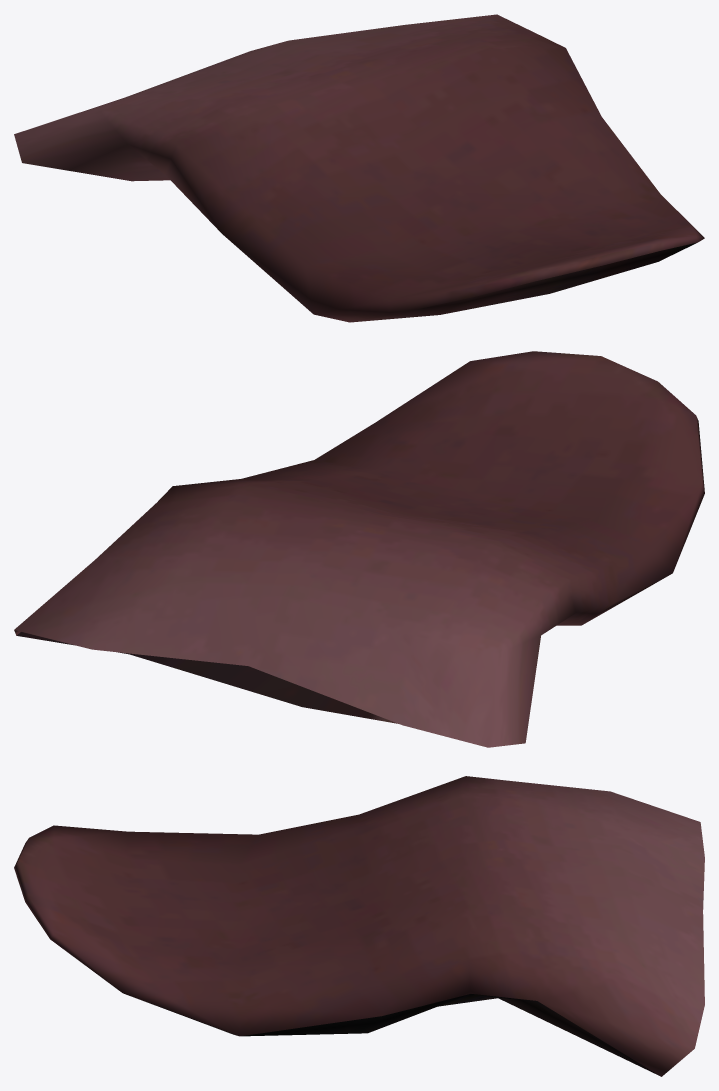
The model's file is TongueShape.obj.
3 views of the same model, one above another, from view 1: azimuth 30°, elevation 25°; view 2: azimuth 150°, elevation 25°; view 3: azimuth 270°, elevation 25° (orthographic). The views are drawn at different scales.
Visible parts, largest first — view 1: Tongue Inner_Face_Parts Brad_Skin CharacterRoot; view 2: Tongue Inner_Face_Parts Brad_Skin CharacterRoot; view 3: Tongue Inner_Face_Parts Brad_Skin CharacterRoot.
Part boxes in pixels (bbox=[...]): Tongue Inner_Face_Parts Brad_Skin CharacterRoot: bbox=[14, 14, 704, 322]; Tongue Inner_Face_Parts Brad_Skin CharacterRoot: bbox=[14, 351, 704, 747]; Tongue Inner_Face_Parts Brad_Skin CharacterRoot: bbox=[14, 776, 704, 1076].
Bounding box in the file's own units: 4.27 × 1.16 × 5.2.
1 material, 1 textured.
